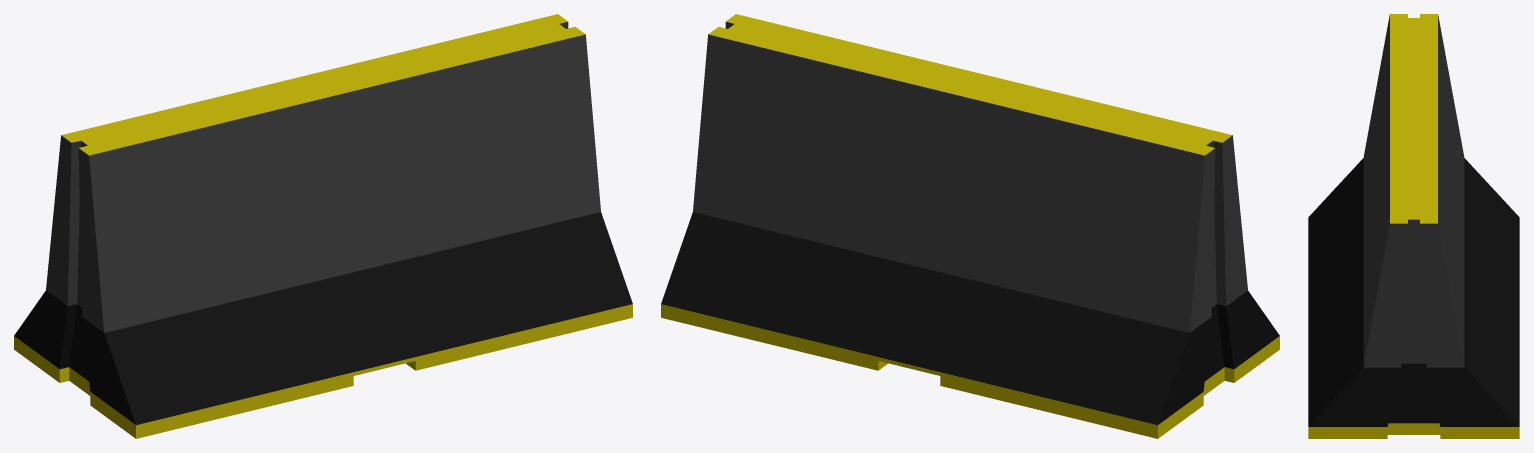
The model's file is Barrier.fbx.
3 views of the same model, side by side, from view 1: azimuth 30°, elevation 25°; view 2: azimuth 150°, elevation 25°; view 3: azimuth 270°, elevation 25° (orthographic). The views are drawn at different scales.
Visible parts, largest first — view 1: Cube (×3); view 2: Cube (×3); view 3: Cube (×3).
Part boxes in pixels (box(x1,y1,x2,y2)): Cube (×3): box(14, 14, 632, 438); Cube (×3): box(661, 14, 1279, 438); Cube (×3): box(1308, 14, 1519, 438).
Bounding box in the file's own units: 983 × 471 × 419.
